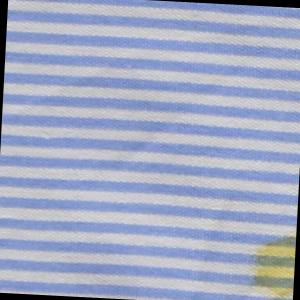Oil Stain: (252, 229, 296, 300)
